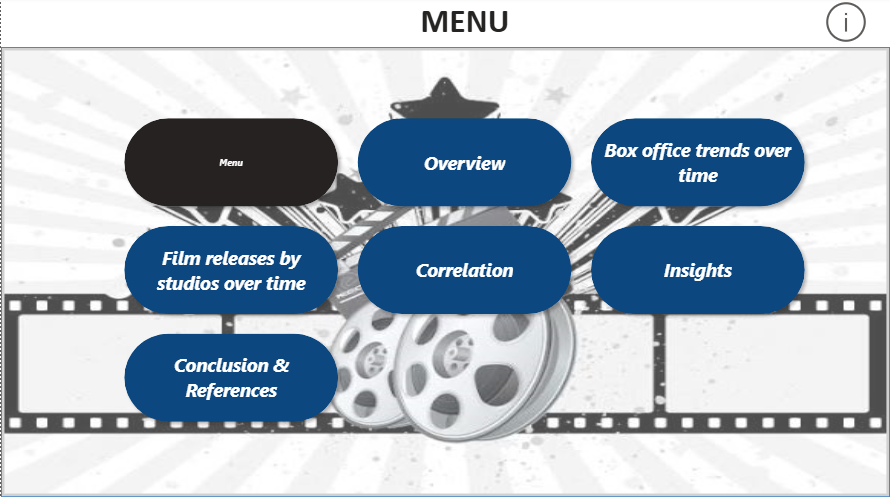

This screenshot's page, from the dashboard's own definition file:
{"tool":"powerbi","page":{"name":"Menu","canvas":[1280,720],"ordinal":0},"visuals":[{"type":"image","box":[0,72,1280,648.2],"z":0},{"type":"shape","box":[0,72,1280,648.2],"z":1000},{"type":"pageNavigator","box":[168.6,165.3,1000.1,456.7],"z":2000},{"type":"textbox","box":[168.5,0,999.4,72],"z":3000},{"type":"actionButton","box":[1180.2,0,99.8,72],"z":4000}]}

Visuals, with their boxes in screenshot pixels (x1, y1, x2, y2), scaled from the page's 1280x720 canvas onto the 890x497 screenshot:
image: 0, 50, 889, 496
shape: 0, 50, 889, 496
pageNavigator: 117, 114, 813, 429
textbox: 117, 0, 812, 50
actionButton: 821, 0, 889, 50
